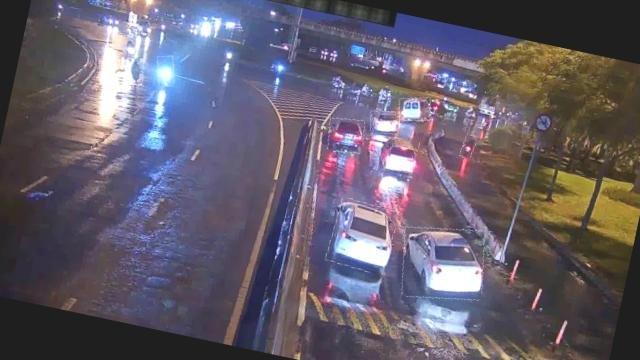Bike: (153, 54, 178, 87), (125, 56, 146, 86), (460, 134, 477, 158)
Bus: (397, 93, 433, 124)
Car: (394, 218, 492, 309), (326, 197, 399, 275), (375, 135, 420, 178), (325, 115, 367, 156), (368, 107, 402, 137)
